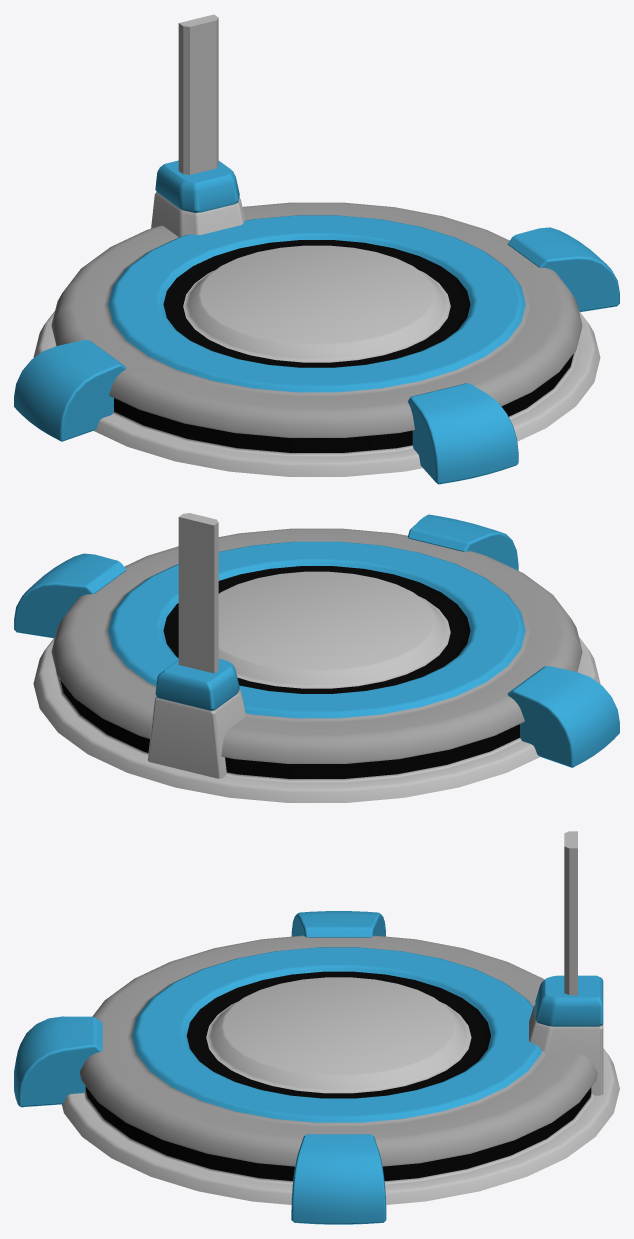
File: Repair_Station_base.fbx
3 views of the same model, one above another, from view 1: azimuth 30°, elevation 25°; view 2: azimuth 150°, elevation 25°; view 3: azimuth 270°, elevation 25° (orthographic).
Parts seen in each view (by area): view 1: Circle; view 2: Circle; view 3: Circle.
Part boxes in pixels (x1,y1,x2,y2): Circle: (14,14,619,484); Circle: (14,513,619,802); Circle: (14,831,619,1224).
Bounding box in the file's own units: 116 × 48.8 × 108.
